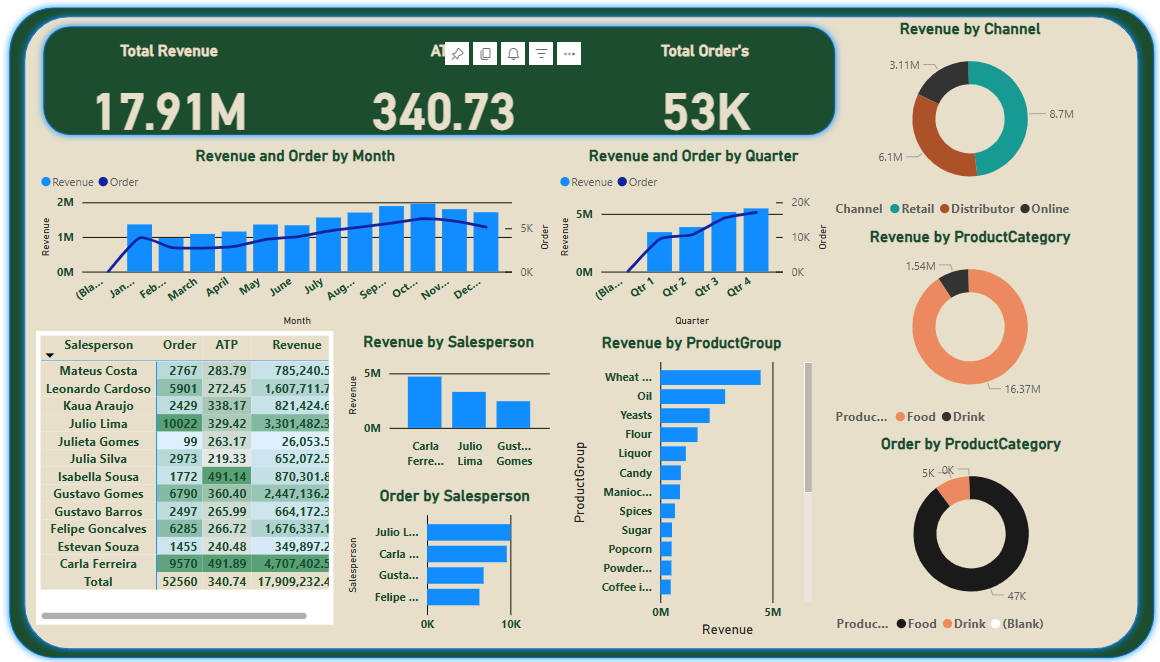

The page's visual inventory and layout, read from the dashboard file:
{"tool":"powerbi","page":{"name":"Page 1","canvas":[1280,720],"ordinal":0},"visuals":[{"type":"shape","box":[11,0,1255.6,720.4],"z":0},{"type":"shape","box":[136,13.5,1121.4,696],"z":1000},{"type":"shape","box":[150.8,55.2,908.7,109],"z":2000},{"type":"card","title":"ATP","fields":{"Values":["Product.ATP"]},"box":[264.6,205.8,299.6,118.7],"z":3000},{"type":"card","title":"Total Order''s","fields":{"Values":["Product.Order"]},"box":[500.9,217.1,299.6,118.7],"z":4000},{"type":"donutChart","fields":{"Y":["Product.Revenue"],"Category":["Sheet1.Channel"]},"box":[1045.9,21.5,193.3,168.5],"z":5000},{"type":"donutChart","fields":{"Y":["Product.Revenue"],"Category":["Product.ProductCategory"]},"box":[1036.8,190,211.4,174.1],"z":6000},{"type":"donutChart","fields":{"Category":["Product.ProductCategory"],"Y":["Product.Order"]},"box":[1036.8,525.8,211.4,166.2],"z":7000},{"type":"lineStackedColumnComboChart","fields":{"Y":["Product.Revenue"],"Y2":["Product.Order"],"Category":["Sheet1.OrderDate.Variation.Date Hierarchy.Quarter"]},"box":[760.9,163.9,275.9,170.7],"z":8000},{"type":"barChart","fields":{"Y":["Product.Revenue"],"Category":["Product.ProductGroup"]},"box":[150.4,163.9,264.6,239.7],"z":9000},{"type":"lineStackedColumnComboChart","fields":{"Y":["Product.Revenue"],"Y2":["Product.Order"],"Category":["Sheet1.OrderDate.Variation.Date Hierarchy.Month"]},"box":[415,163.9,355,170.7],"z":10000},{"type":"lineClusteredColumnComboChart","fields":{"Category":["Sheet1.Salesperson"],"Y":["Product.Revenue"]},"box":[511.6,343.3,247.7,173.7],"z":11000},{"type":"barChart","fields":{"Y":["Product.Order"],"Category":["Sheet1.Salesperson"]},"box":[517,526.4,284.1,168.3],"z":12000},{"type":"pivotTable","fields":{"Rows":["Sheet1.Salesperson"],"Values":["Product.Order","Product.ATP","Product.Revenue"]},"box":[150.4,396.9,367.5,295.1],"z":13000},{"type":"card","title":"Total Order''s","fields":{"Values":["Product.Order"]},"box":[760.6,70,285.4,86.2],"z":14000},{"type":"card","title":"ATP","fields":{"Values":["Product.ATP"]},"box":[468.5,70,290.8,79.4],"z":15000},{"type":"card","title":"Total Revenue","fields":{"Values":["Product.Revenue"]},"box":[177.7,70,290.8,83.5],"z":16000},{"type":"clusteredColumnChart","fields":{"Category":["Product.ProductCategory"],"Series":["Sheet1.Channel"],"Y":["Product.Revenue"]},"box":[760.6,453.7,263.9,241],"z":17000},{"type":"clusteredBarChart","fields":{"Category":["Sheet1.Manager"],"Y":["Sheet1.Quantity"]},"box":[759.3,335.2,271.9,123.9],"z":18000},{"type":"donutChart","fields":{"Y":["Product.Order"],"Category":["Sheet1.Channel"]},"box":[1036.8,367.5,211.4,158.3],"z":19000},{"type":"slicer","fields":{"Values":["Product.ProductCategory"]},"box":[16.2,37.7,134.6,138.7],"z":20000},{"type":"slicer","fields":{"Values":["Sheet1.Channel"]},"box":[16.2,176.4,134.6,220.8],"z":21000},{"type":"slicer","fields":{"Values":["Sheet1.OrderDate.Variation.Date Hierarchy.Quarter"]},"box":[16.2,403.9,134.6,266.6],"z":22000},{"type":"textbox","box":[126.6,21.5,947.5,41.8],"z":23000}]}

Visuals, with their boxes on the page's 1280x720 design canvas (x1, y1, x2, y2). These are canvas units, not pixel positions in the 1160x662 screenshot, which may show the page scaled, cropped or inside an application window:
shape: bbox(11, 0, 1267, 720)
shape: bbox(136, 14, 1257, 710)
shape: bbox(151, 55, 1060, 164)
"ATP" card: bbox(265, 206, 564, 324)
"Total Order''s" card: bbox(501, 217, 800, 336)
donutChart - Product.Revenue x Sheet1.Channel: bbox(1046, 22, 1239, 190)
donutChart - Product.Revenue x Product.ProductCategory: bbox(1037, 190, 1248, 364)
donutChart - Product.ProductCategory x Product.Order: bbox(1037, 526, 1248, 692)
lineStackedColumnComboChart - Product.Revenue x Product.Order: bbox(761, 164, 1037, 335)
barChart - Product.Revenue x Product.ProductGroup: bbox(150, 164, 415, 404)
lineStackedColumnComboChart - Product.Revenue x Product.Order: bbox(415, 164, 770, 335)
lineClusteredColumnComboChart - Sheet1.Salesperson x Product.Revenue: bbox(512, 343, 759, 517)
barChart - Product.Order x Sheet1.Salesperson: bbox(517, 526, 801, 695)
pivotTable - Sheet1.Salesperson x Product.Order: bbox(150, 397, 518, 692)
"Total Order''s" card: bbox(761, 70, 1046, 156)
"ATP" card: bbox(468, 70, 759, 149)
"Total Revenue" card: bbox(178, 70, 468, 154)
clusteredColumnChart - Product.ProductCategory x Sheet1.Channel: bbox(761, 454, 1024, 695)
clusteredBarChart - Sheet1.Manager x Sheet1.Quantity: bbox(759, 335, 1031, 459)
donutChart - Product.Order x Sheet1.Channel: bbox(1037, 368, 1248, 526)
slicer - Product.ProductCategory: bbox(16, 38, 151, 176)
slicer - Sheet1.Channel: bbox(16, 176, 151, 397)
slicer - Sheet1.OrderDate.Variation.Date Hierarchy.Quarter: bbox(16, 404, 151, 670)
textbox: bbox(127, 22, 1074, 63)
